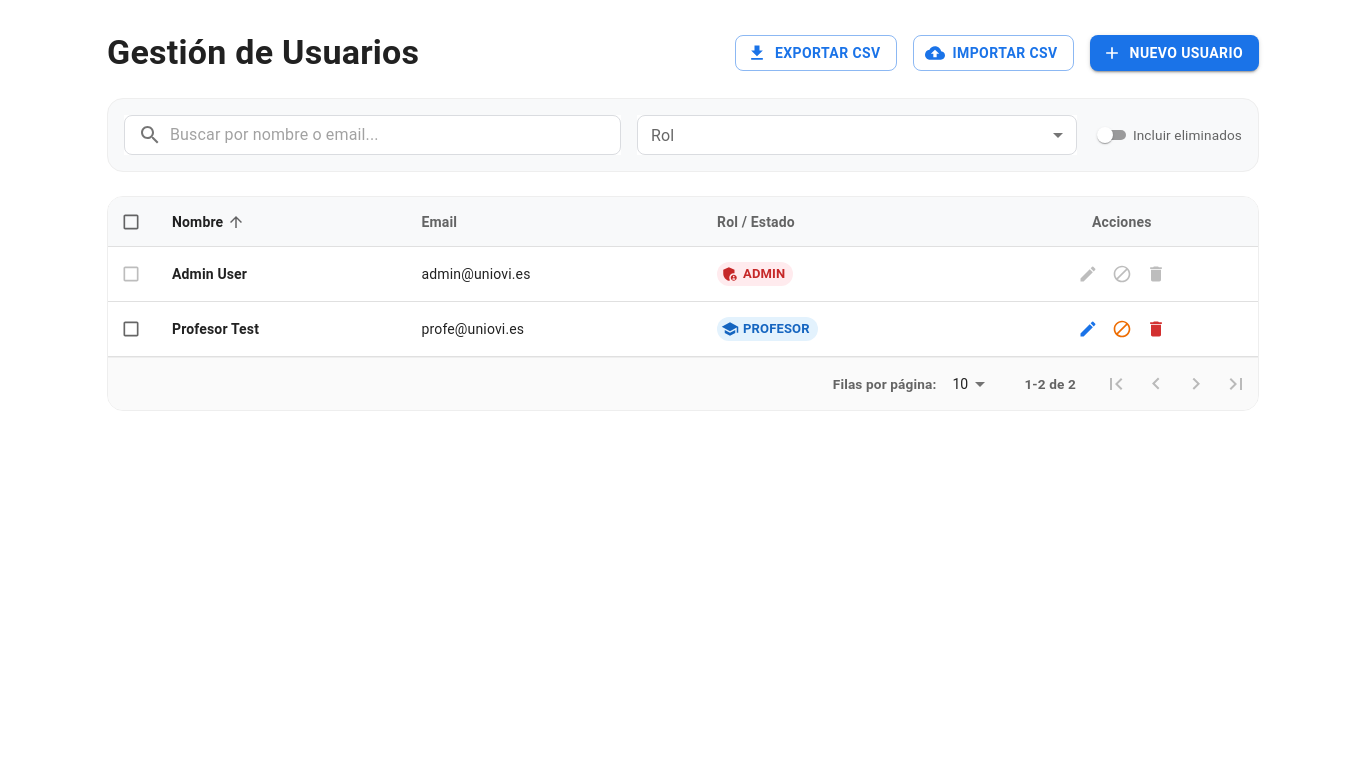
Test: UserList › debe abrir el diálogo de borrado al pulsar eliminar en un usuario no protegido
Check: the text "Profesor Test" is shown, box [172,319,259,339]
Click the button named "eliminar": {"x": 1156, "y": 329} [1141,314,1171,344]
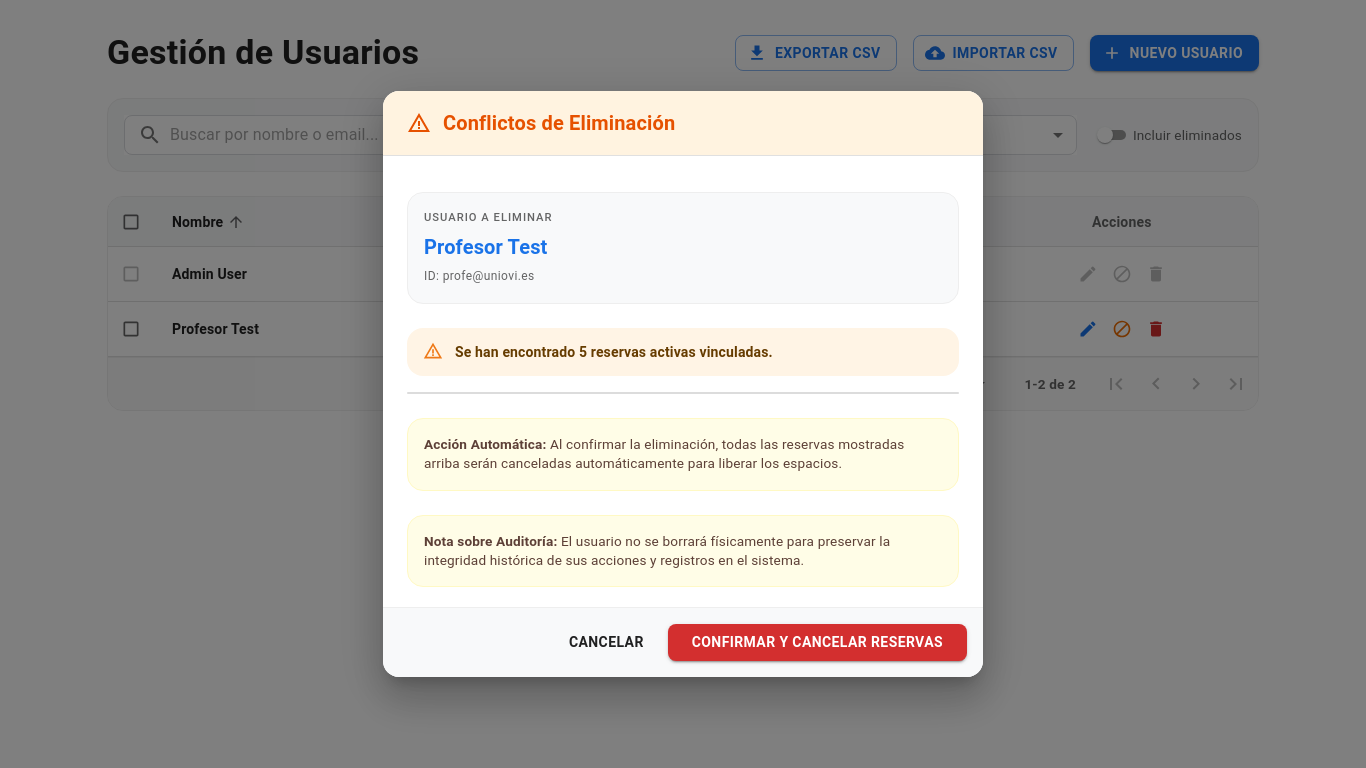
Check: the heading "¿eliminar usuario?" is shown, box [383,91,983,155]
